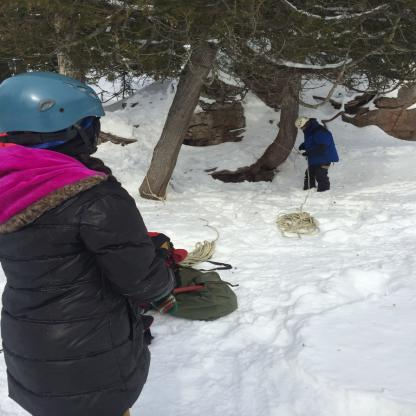Helmet: (5, 75, 105, 153), (294, 118, 308, 130)
